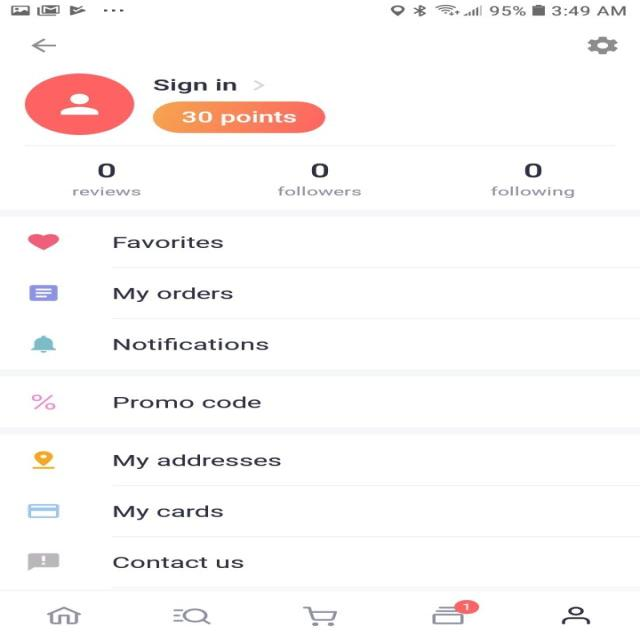Icon: (24, 73, 134, 135), (431, 599, 479, 625), (301, 606, 337, 626), (172, 608, 212, 625), (47, 605, 82, 624), (26, 552, 59, 571), (586, 36, 618, 55), (560, 606, 590, 625), (27, 233, 59, 250), (28, 284, 58, 301), (26, 503, 59, 518), (31, 335, 57, 353), (31, 451, 55, 469), (31, 38, 57, 53), (252, 80, 265, 90)
Image: (31, 394, 56, 410)
Text: (113, 454, 281, 469), (112, 337, 268, 350), (113, 286, 233, 302), (112, 396, 260, 408), (113, 505, 223, 520), (112, 556, 244, 568), (152, 78, 236, 94), (113, 236, 223, 248), (490, 186, 574, 198), (276, 186, 361, 196), (72, 186, 140, 195), (97, 162, 115, 178), (310, 163, 328, 177), (524, 163, 542, 177)
TextButton: (152, 101, 326, 133)
